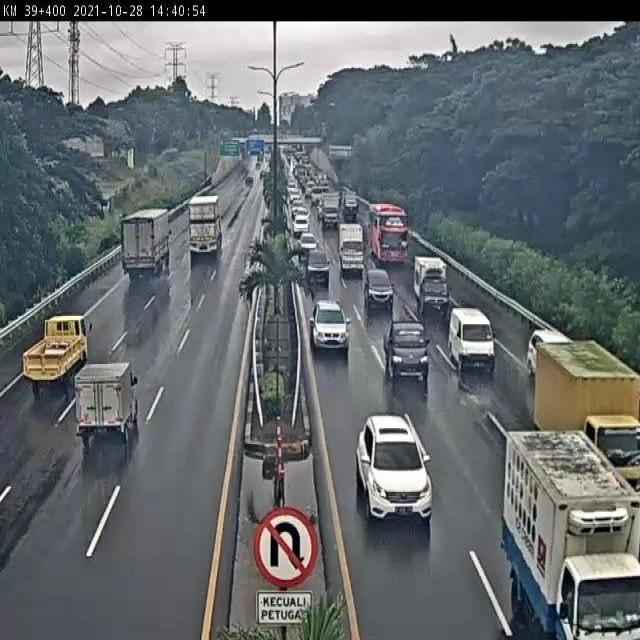big truck: (187, 193, 222, 255)
bus-l-: (368, 202, 409, 266)
car: (353, 414, 434, 526), (447, 307, 497, 376), (527, 327, 575, 385), (384, 318, 430, 378), (310, 297, 349, 356), (363, 266, 397, 310), (304, 247, 332, 288)
small truck: (73, 361, 140, 443), (21, 315, 91, 389)
truck-m-: (535, 338, 640, 502), (120, 208, 171, 279), (337, 221, 366, 275)
truck-s-: (411, 253, 450, 315)
